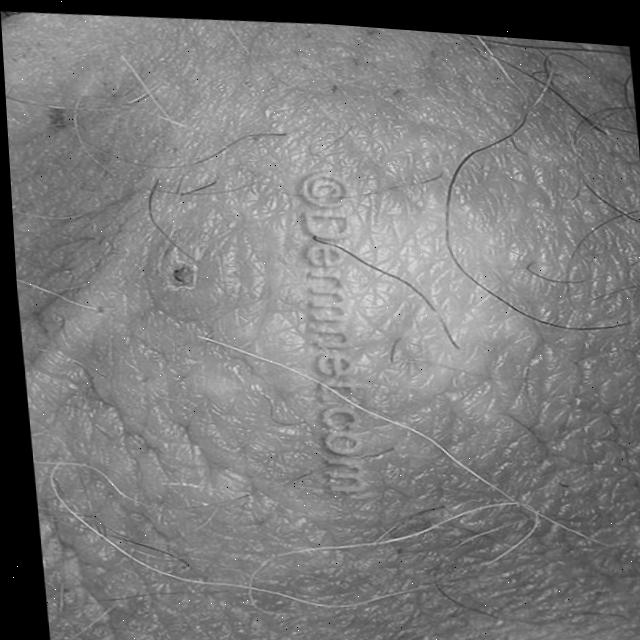Eczema: (143, 145, 475, 425)
